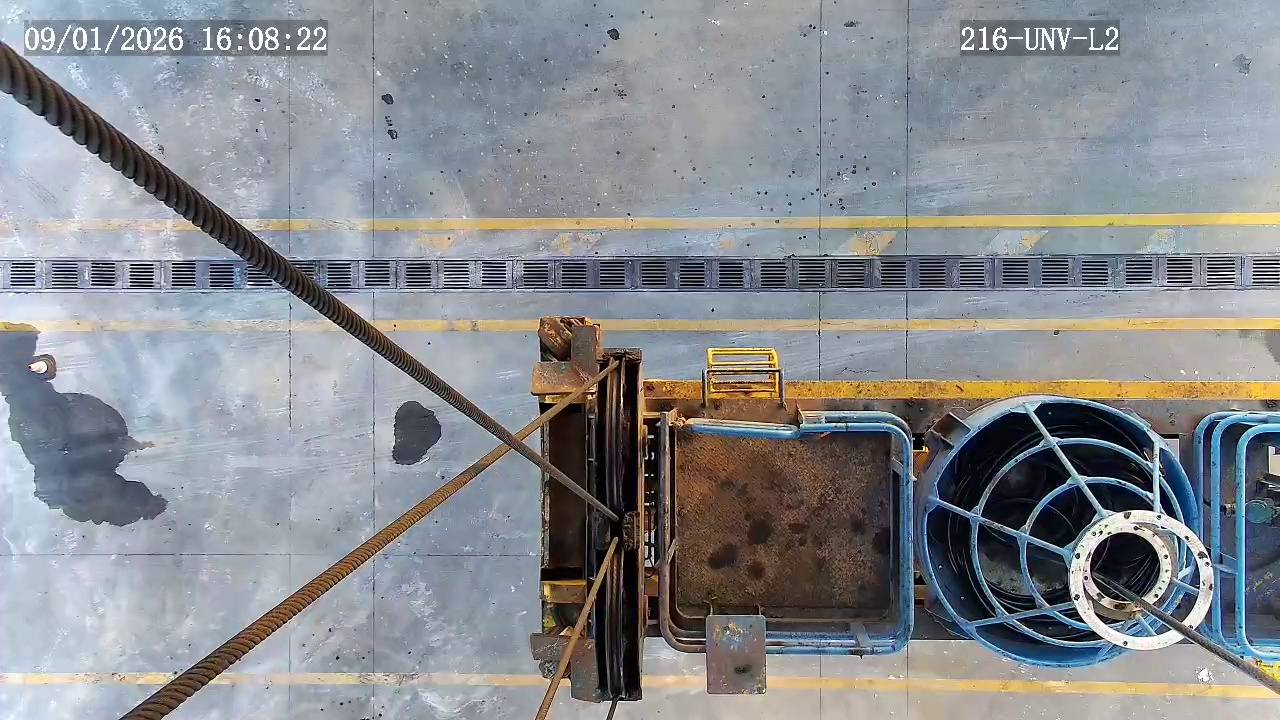left: (1066, 510, 1213, 650)
